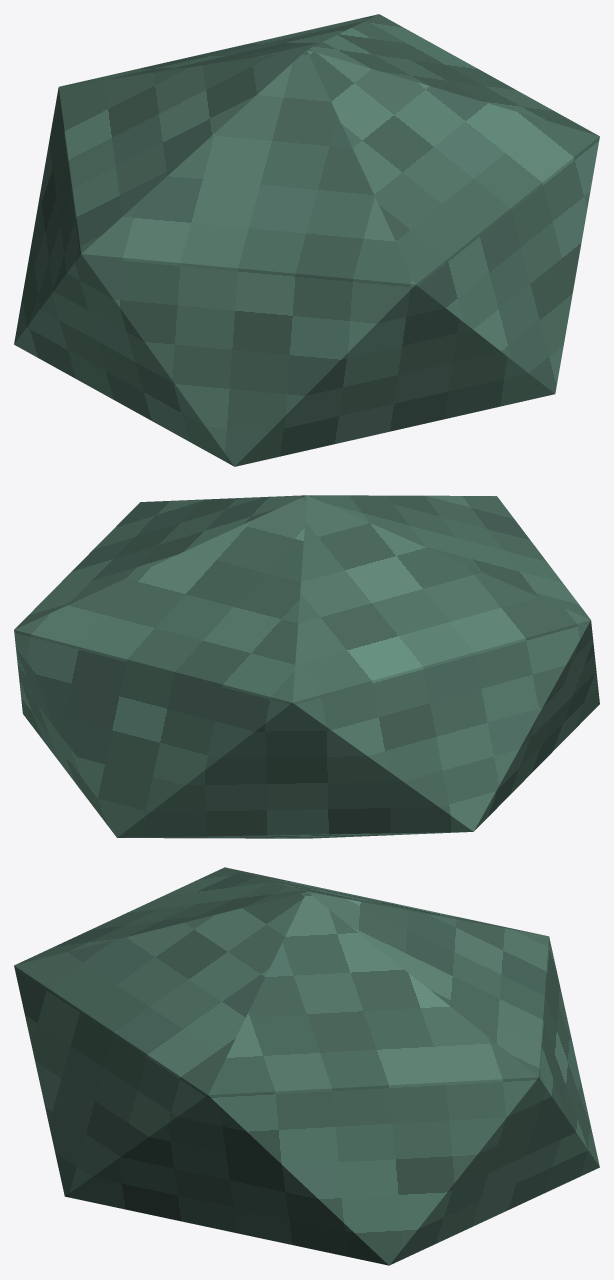
Rendered from rock_34.glb.
3 views of the same model, one above another, from view 1: azimuth 30°, elevation 25°; view 2: azimuth 150°, elevation 25°; view 3: azimuth 270°, elevation 25° (orthographic). The views are drawn at different scales.
Parts seen in each view (by area): view 1: WeatheredStone; view 2: WeatheredStone; view 3: WeatheredStone.
Part boxes in pixels (x1,y1,x2,y2): WeatheredStone: [14, 14, 599, 466]; WeatheredStone: [14, 495, 599, 838]; WeatheredStone: [14, 867, 599, 1265].
Bounding box in the file's own units: 2.19 × 1.48 × 2.24.
Materials: 1 (1 with a texture image).
